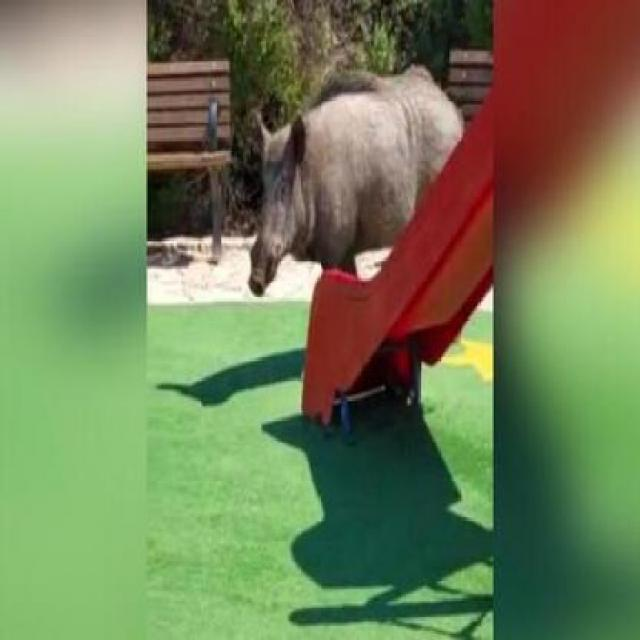Wild Boar: (242, 57, 476, 326)
